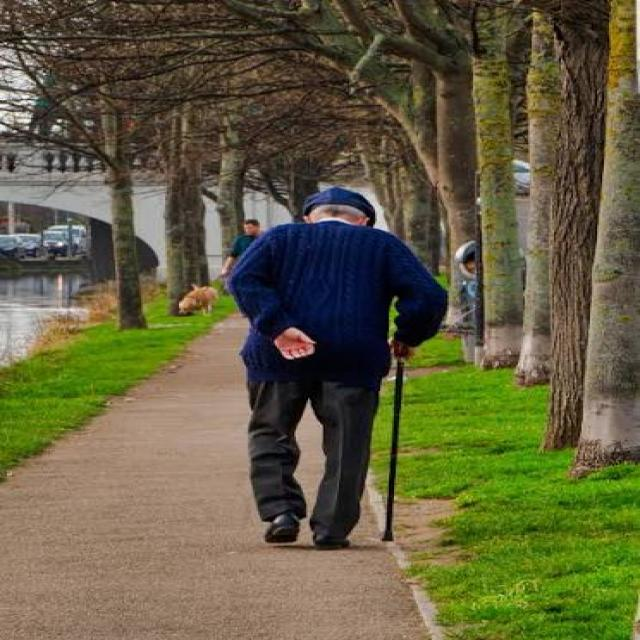Person: (217, 180, 456, 558)
